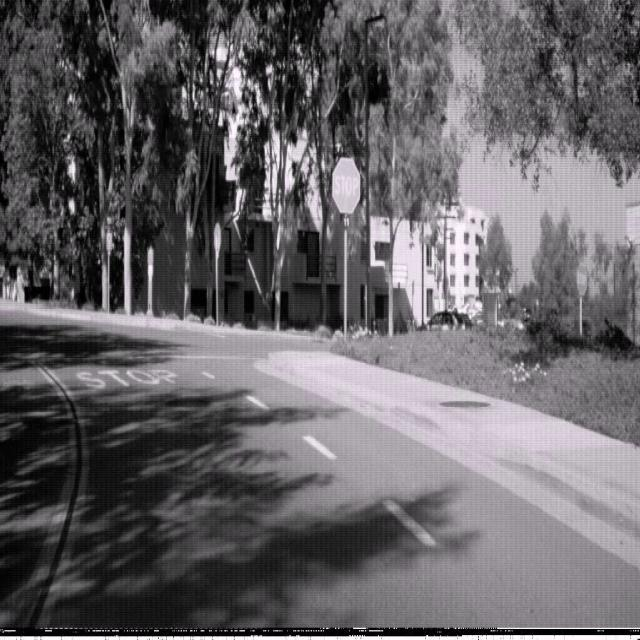stop_sign: (332, 157, 361, 213), (576, 262, 588, 297)
